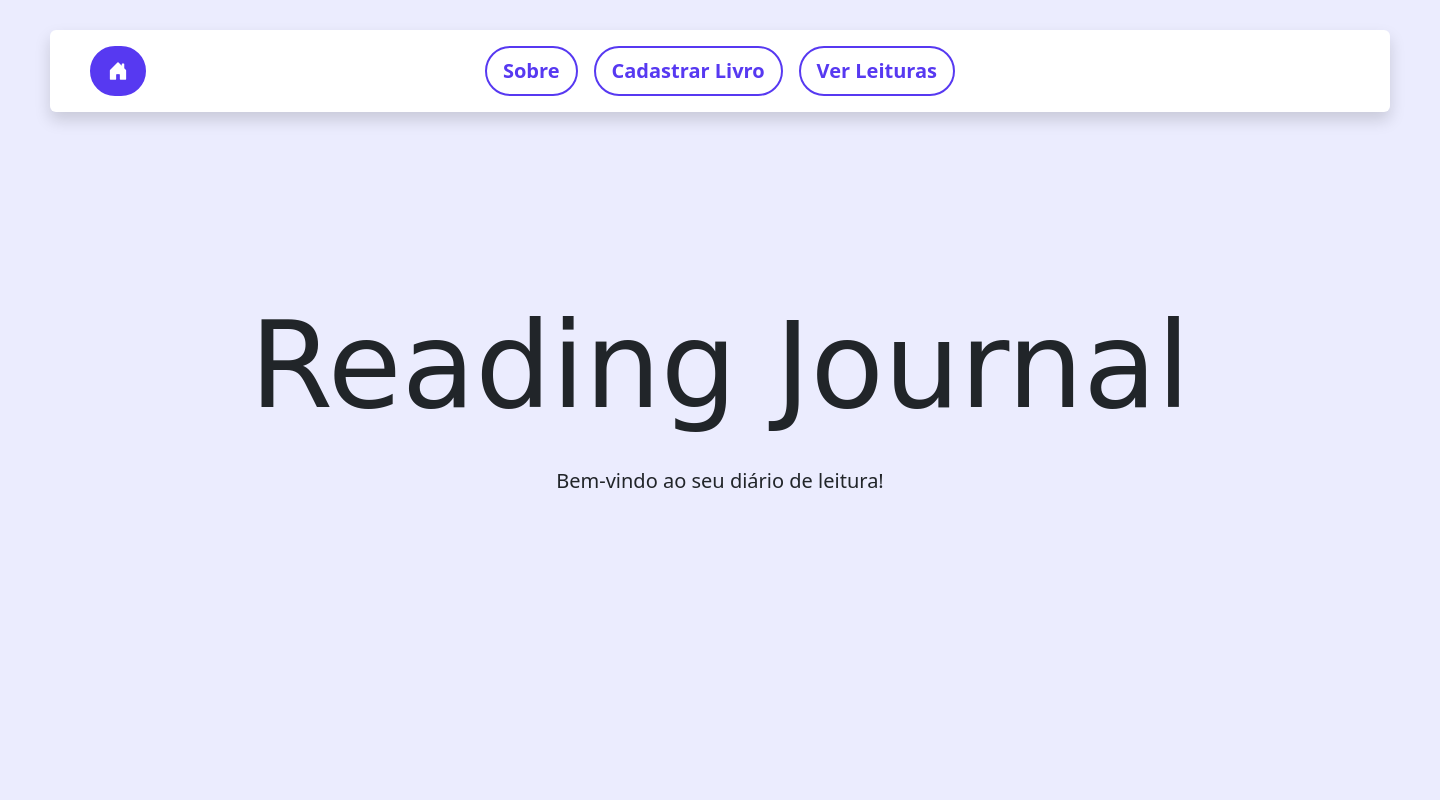
Funcionalidade de Navegar Entre as Páginas: › Como um usuário: › Quando clicar nos botões de navegação do menu superior: › devo conseguir navegar entre as páginas, com feedback nos botões de qual página estou
Check: the heading "Reading Journal" is shown, box left=250, top=296, right=1190, bottom=435
# Navega para a página de "Sobre" e faz as verificações
Click the button with test id "about-button": [532, 71] box left=485, top=46, right=578, bottom=96
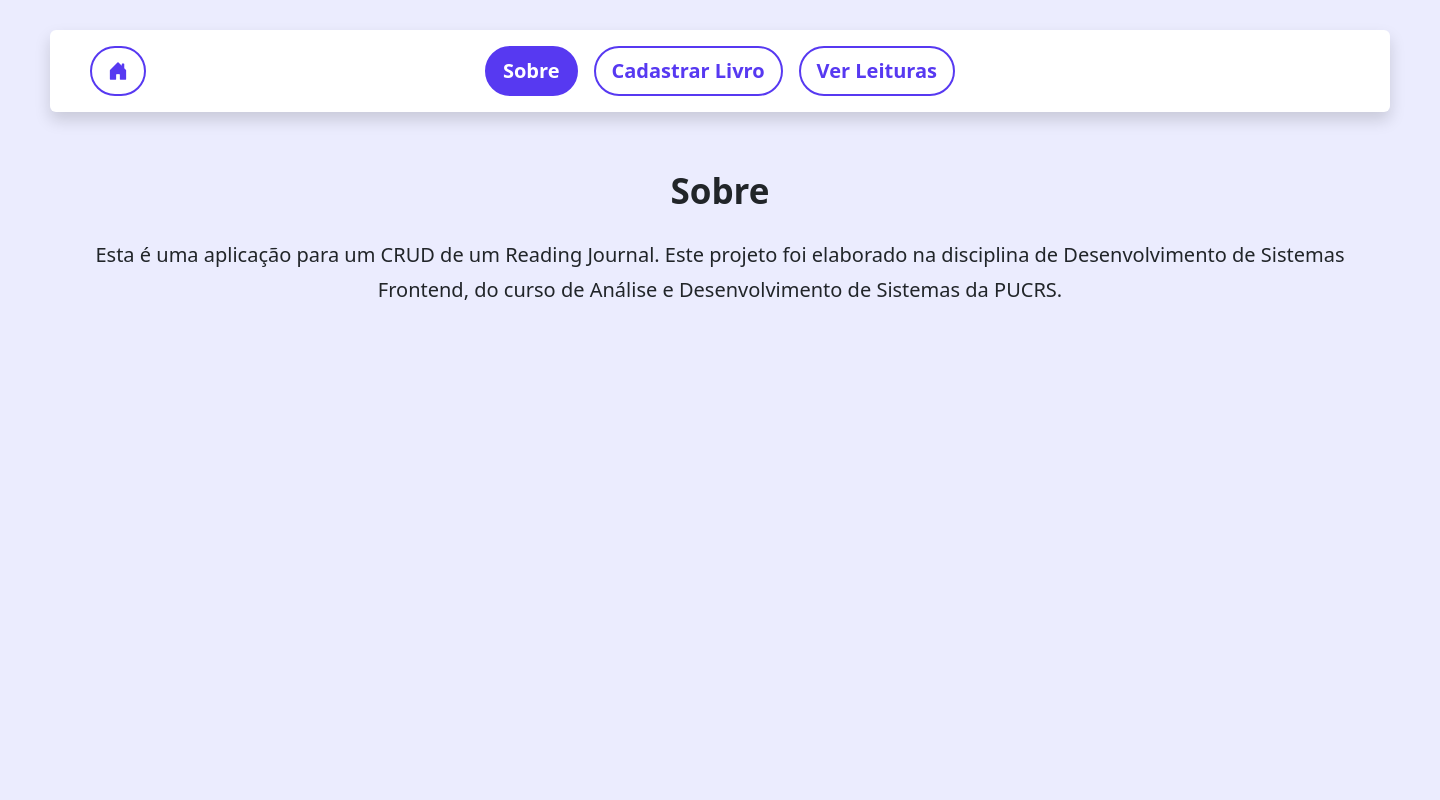
Check: the heading "Sobre" is shown, box left=670, top=167, right=770, bottom=214
# Navega para a página de "Cadastrar Livro" e faz as verificações
Click the button with test id "register-button": [689, 71] box left=594, top=46, right=783, bottom=96
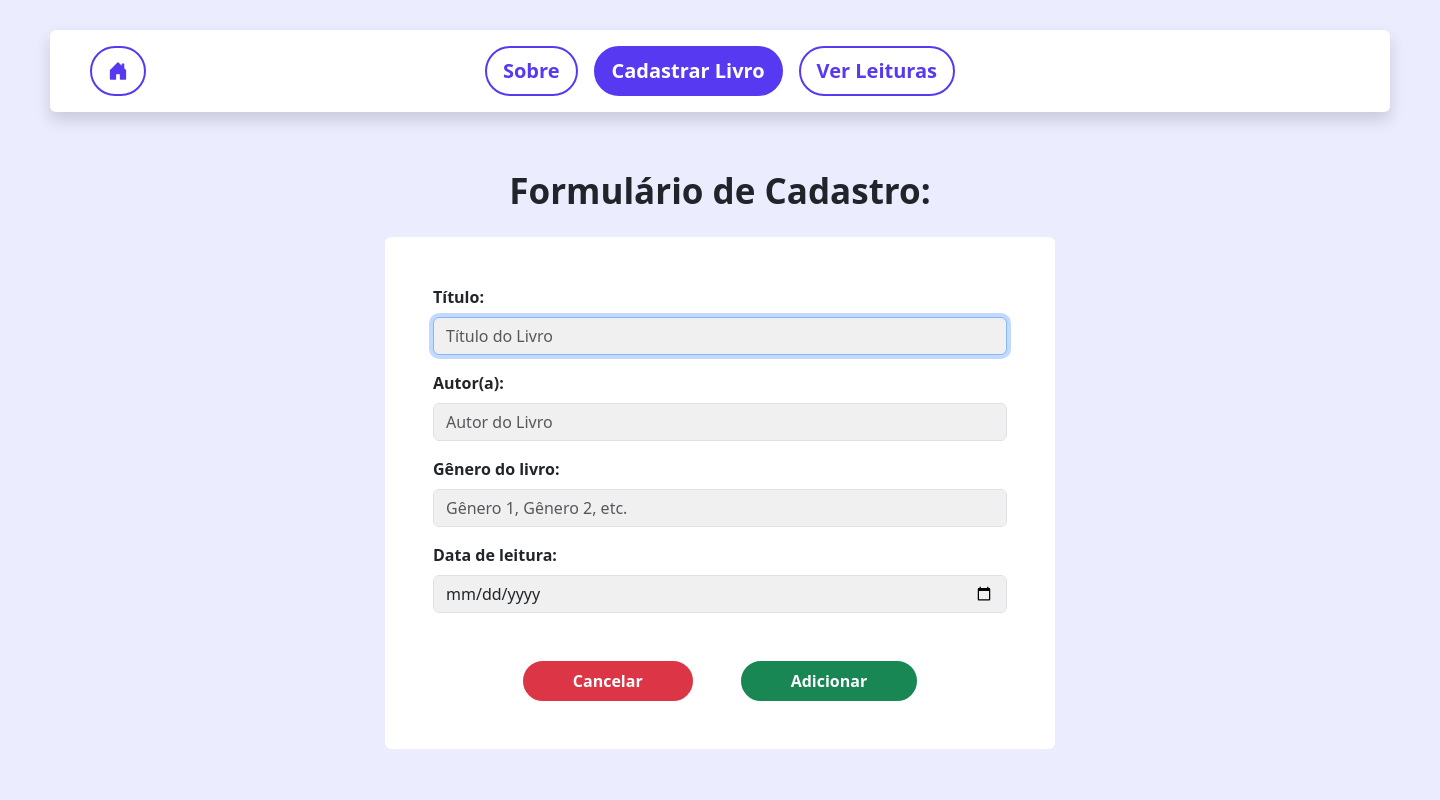
Check: the heading "Formulário de Cadastro:" is shown, box left=509, top=170, right=931, bottom=212
# Navega para a página de "Ver Leituras" e faz as verificações
Click the button with test id "booklist-button": [878, 71] box left=799, top=46, right=956, bottom=96
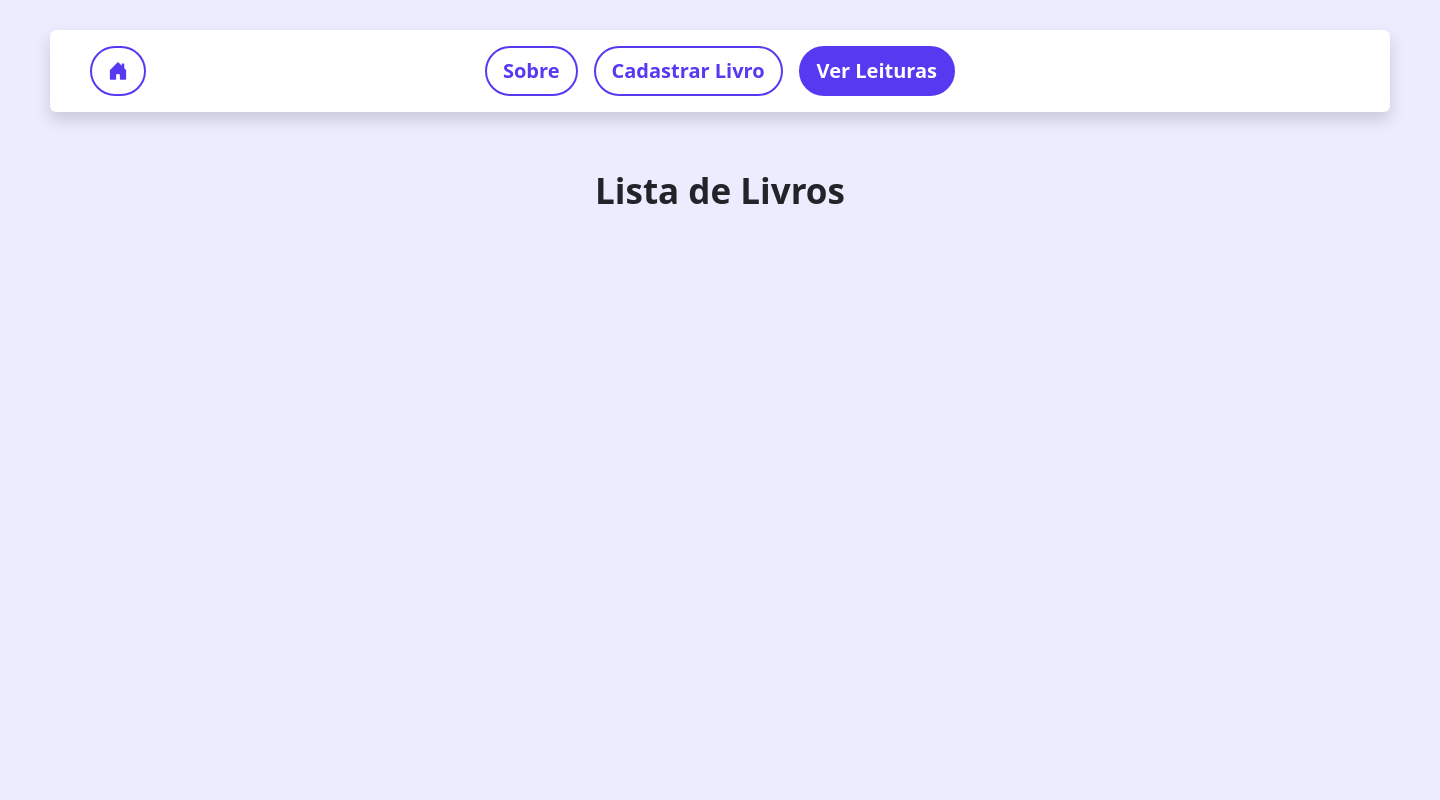
Check: the heading "Lista de Livros" is shown, box left=595, top=170, right=845, bottom=212
